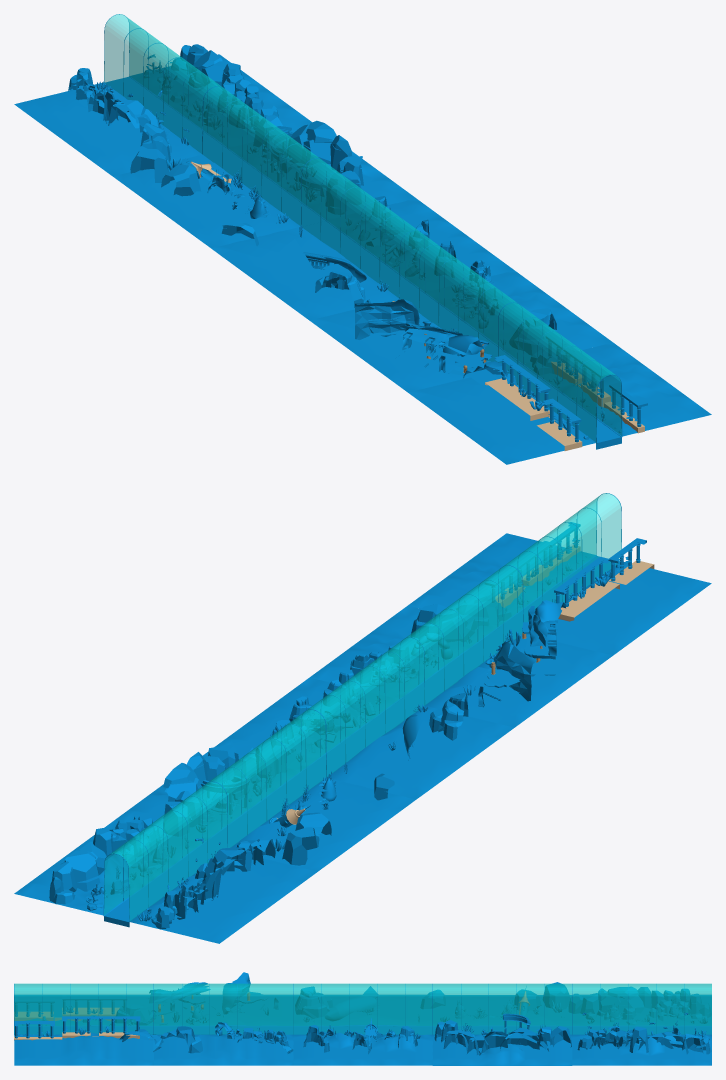
Rendered from Coral_Enviroment_Update.fbx.
3 views of the same model, one above another, from view 1: azimuth 30°, elevation 25°; view 2: azimuth 150°, elevation 25°; view 3: azimuth 270°, elevation 25° (orthographic). The views are drawn at different scales.
Parts seen in each view (by area): view 1: OutDoor_Env, Outdoor, Tunnel_Glass_04 (×2), OutDoor_ENv, OutDoor, Plants_03, Tunnel_Glass_02, Tunnel_Glass_01, Tunnel_Glass_05, Road_02, Road_03, Road_01 (+2 smaller); view 2: OutDoor, Tunnel_Glass_04 (×2), OutDoor_Env, OutDoor_ENv, Outdoor, Plants_03, Tunnel_Glass_02, Tunnel_Glass_01, Tunnel_Glass_05, Road_01, Road_02, Road_03 (+2 smaller); view 3: Tunnel_Glass_04 (×2), OutDoor_ENv, Outdoor, OutDoor, OutDoor_Env, Plants_03, Tunnel_Glass_01, Tunnel_Glass_05, Tunnel_Glass_02, Road_01, Road_03, Road_04 (+2 smaller).
Boxes of the visible parts, x1=… form: OutDoor_Env: x1=408, y1=334, x2=711, y2=464; Outdoor: x1=113, y1=115, x2=415, y2=247; Tunnel_Glass_04 (×2): x1=301, y1=158, x2=523, y2=363; OutDoor_ENv: x1=309, y1=260, x2=612, y2=392; OutDoor: x1=14, y1=44, x2=312, y2=176; Plants_03: x1=211, y1=196, x2=514, y2=320; Tunnel_Glass_02: x1=202, y1=86, x2=326, y2=225; Tunnel_Glass_01: x1=104, y1=14, x2=227, y2=154; Tunnel_Glass_05: x1=498, y1=302, x2=622, y2=443; Road_02: x1=204, y1=149, x2=325, y2=226; Road_03: x1=303, y1=221, x2=423, y2=298; Road_01: x1=105, y1=77, x2=226, y2=154; OutDoor: x1=14, y1=815, x2=317, y2=943; Tunnel_Glass_04 (×2): x1=301, y1=565, x2=523, y2=776; OutDoor_Env: x1=408, y1=522, x2=711, y2=655; OutDoor_ENv: x1=310, y1=600, x2=612, y2=727; Outdoor: x1=113, y1=743, x2=415, y2=871; Plants_03: x1=214, y1=669, x2=514, y2=799; Tunnel_Glass_02: x1=202, y1=709, x2=326, y2=847; Tunnel_Glass_01: x1=103, y1=781, x2=227, y2=922; Tunnel_Glass_05: x1=498, y1=493, x2=621, y2=626; Road_01: x1=104, y1=844, x2=221, y2=927; Road_02: x1=204, y1=772, x2=324, y2=848; Road_03: x1=302, y1=700, x2=421, y2=777; Tunnel_Glass_04 (×2): x1=153, y1=983, x2=432, y2=1034; OutDoor_ENv: x1=147, y1=972, x2=293, y2=1065; Outdoor: x1=420, y1=982, x2=572, y2=1065; OutDoor: x1=561, y1=987, x2=711, y2=1065; OutDoor_Env: x1=14, y1=995, x2=163, y2=1065; Plants_03: x1=293, y1=986, x2=432, y2=1065; Tunnel_Glass_01: x1=572, y1=983, x2=711, y2=1034; Tunnel_Glass_05: x1=14, y1=983, x2=153, y2=1034; Tunnel_Glass_02: x1=432, y1=983, x2=572, y2=1034; Road_01: x1=572, y1=1026, x2=711, y2=1034; Road_03: x1=293, y1=1026, x2=432, y2=1034; Road_04: x1=154, y1=1026, x2=293, y2=1034.
Size of the model in its own units: 2486 by 829 by 10327.
